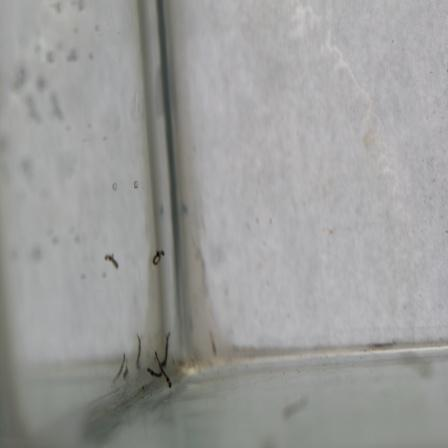Jentik-Nyamuk: (153, 329, 175, 393), (149, 242, 168, 273)
